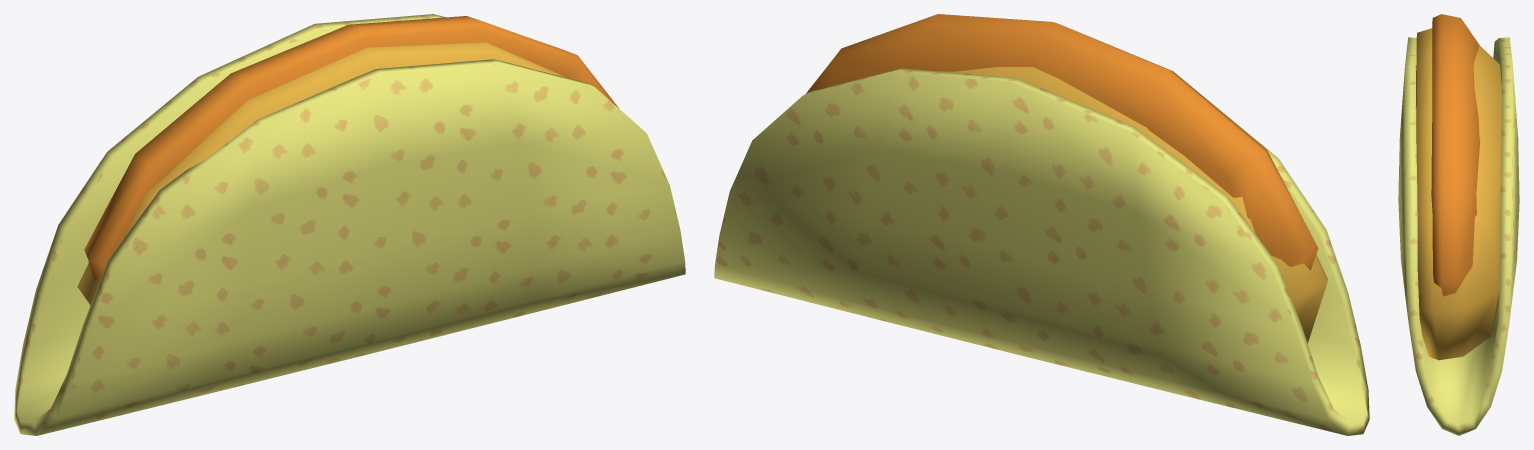
The model's file is quesadillas.glb.
3 views of the same model, side by side, from view 1: azimuth 30°, elevation 25°; view 2: azimuth 150°, elevation 25°; view 3: azimuth 270°, elevation 25° (orthographic). The views are drawn at different scales.
Visible parts, largest first — view 1: base; view 2: base; view 3: base.
Boxes of the visible parts, left/top/right/bottom form: base: left=14, top=14, right=685, bottom=435; base: left=714, top=14, right=1369, bottom=435; base: left=1398, top=14, right=1519, bottom=435.
Size of the model in its own units: 1.64 by 0.7941 by 0.3284.
3 materials, 1 textured.
